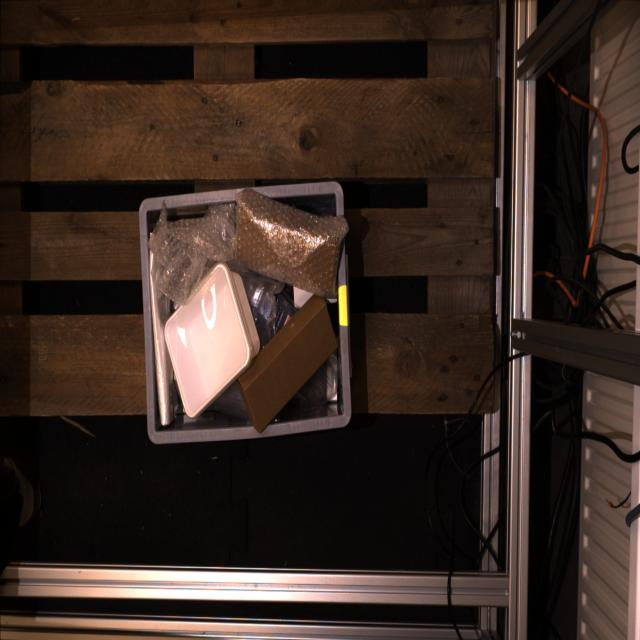BoxInsideWrap: (236, 186, 343, 296)
CardboardBox: (236, 294, 337, 430), (294, 287, 312, 307)
ItemPackaging: (241, 273, 296, 348)
Package: (150, 273, 175, 425)
PackagingAirBags: (149, 202, 236, 304), (240, 271, 284, 349), (289, 353, 338, 409), (209, 381, 249, 420)
PlasticContainer: (162, 260, 261, 419)
